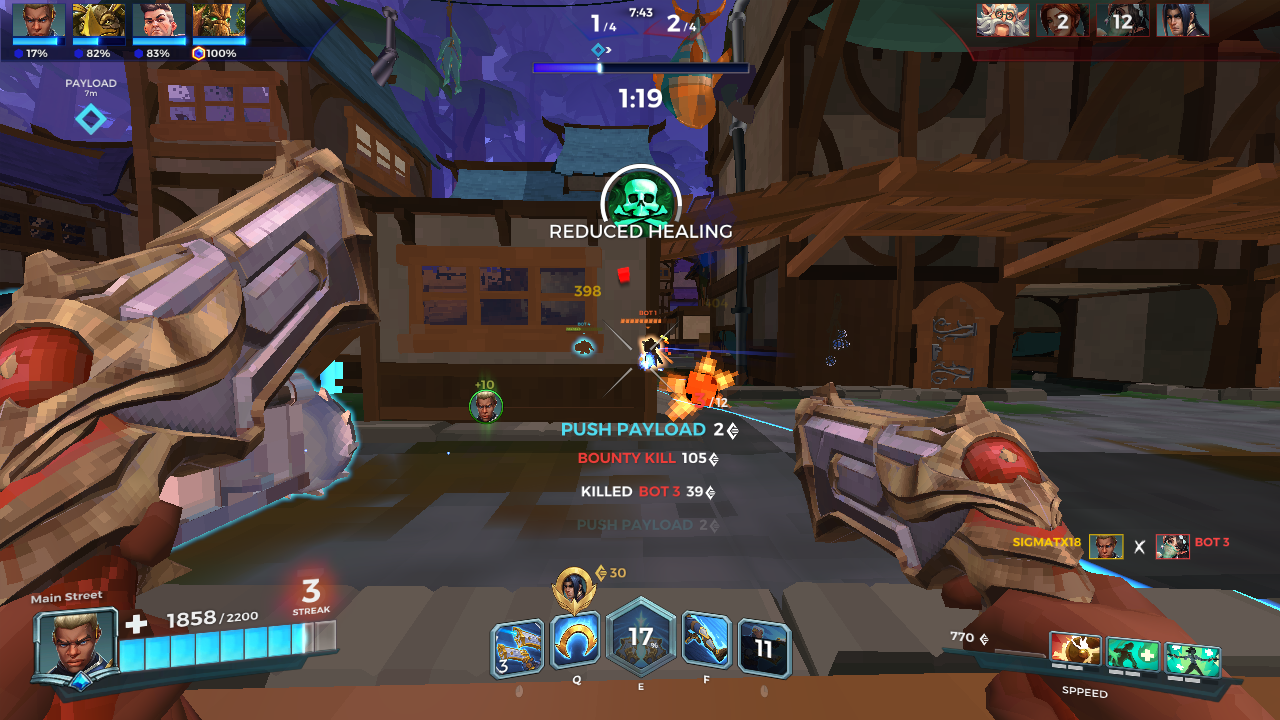model: (638, 333, 667, 372)
